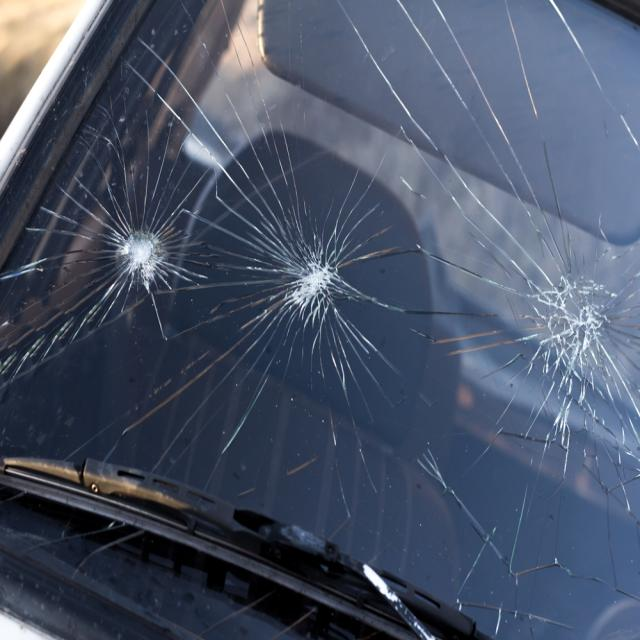Fissure: (420, 0, 640, 625), (219, 0, 417, 524), (2, 27, 215, 501)
